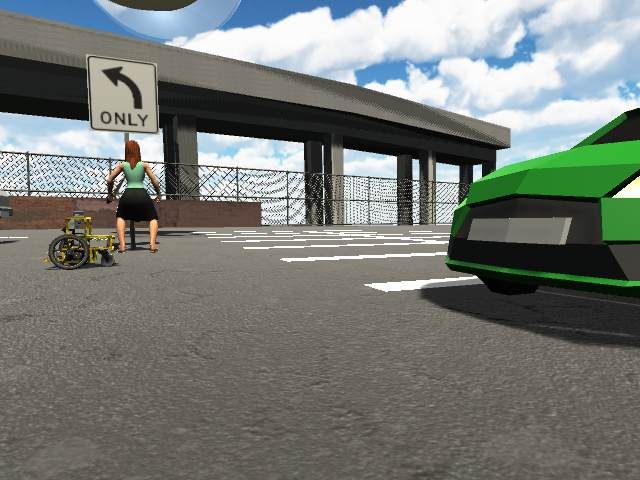arrow_left: (101, 64, 148, 108)
